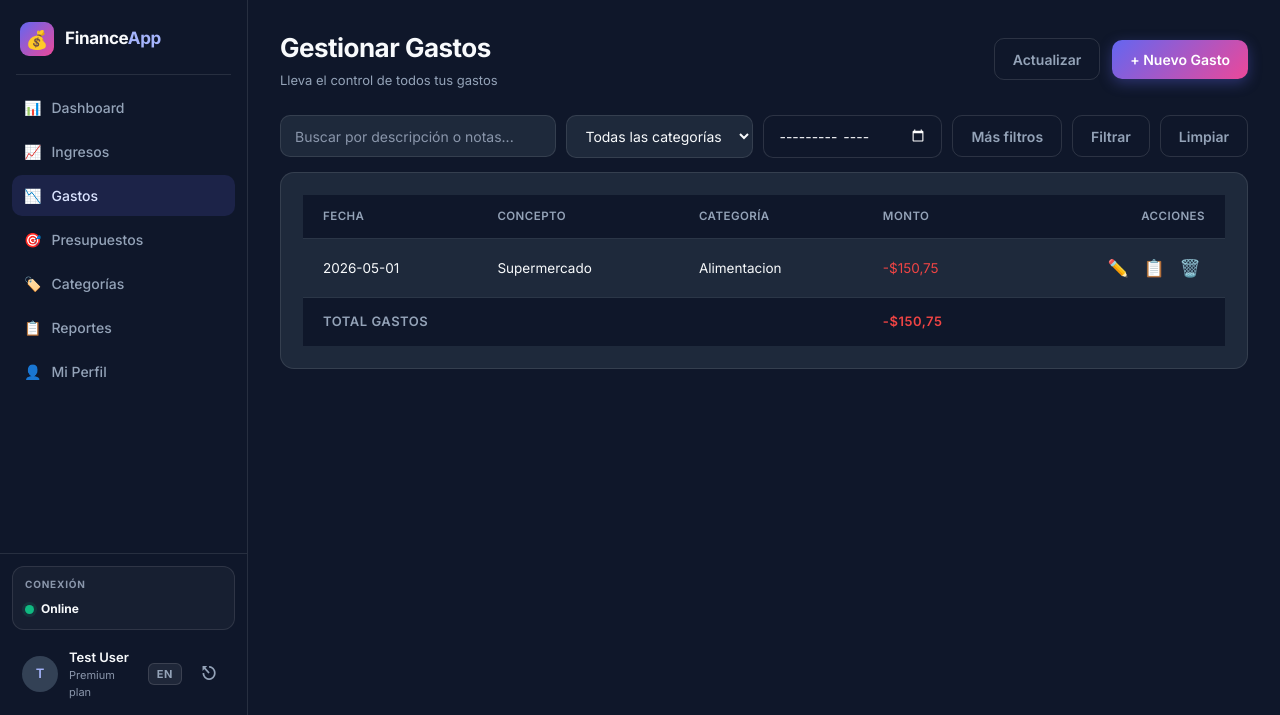
CRUD de Gastos (E2E) › Debe validar que el concepto sea obligatorio
The width and height of the screenshot is (1280, 715).
Click the button with test id "new-expense-button" at (1180, 60), box [1112,40,1248,79]
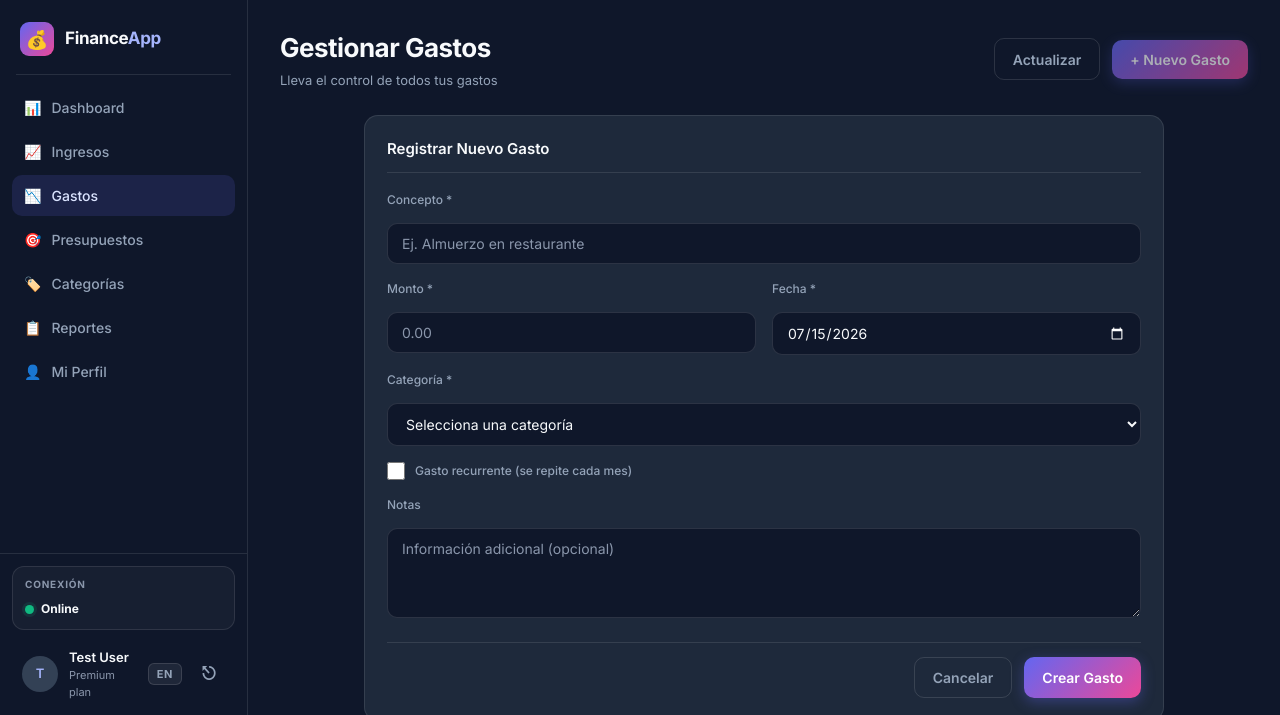
Type "100" into the field with test id "expense-amount" at (572, 333), box [387,312,756,353]
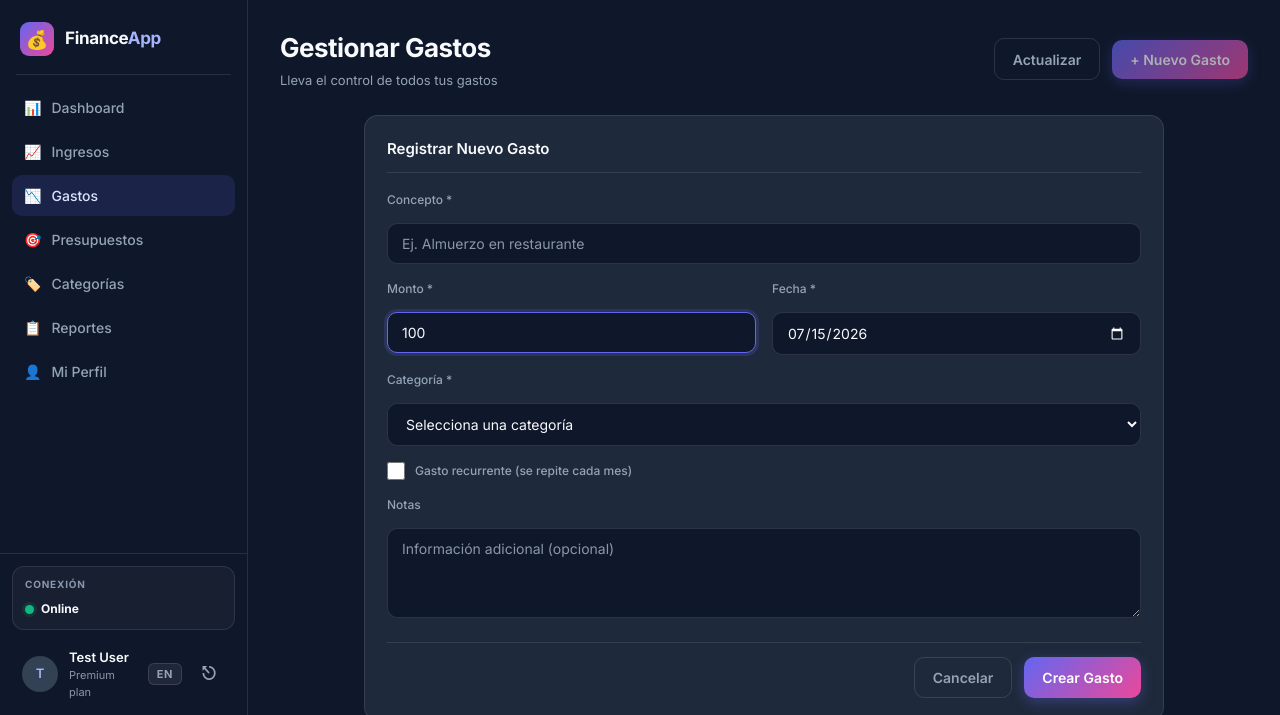
Type "2026-05-15" into the date field with test id "expense-date" at (957, 334), box [772,312,1141,355]
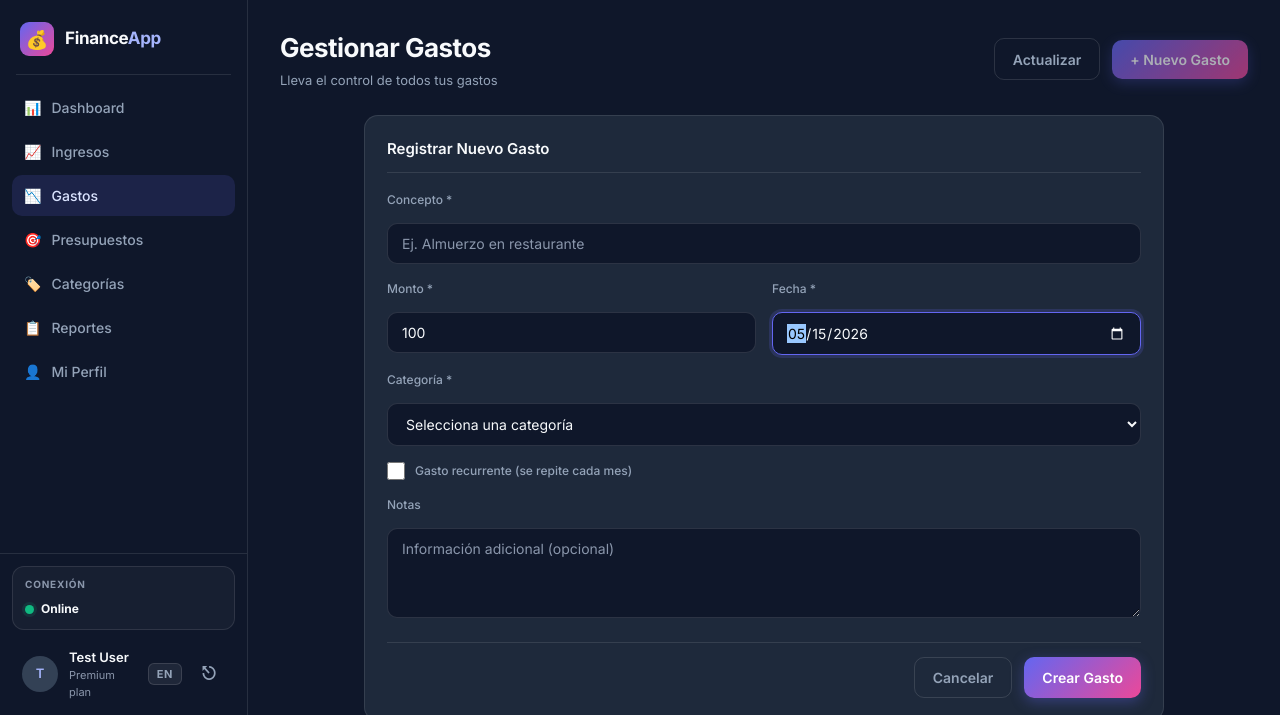
Click the button with test id "expense-submit" at (1083, 678), box [1024,657,1141,698]
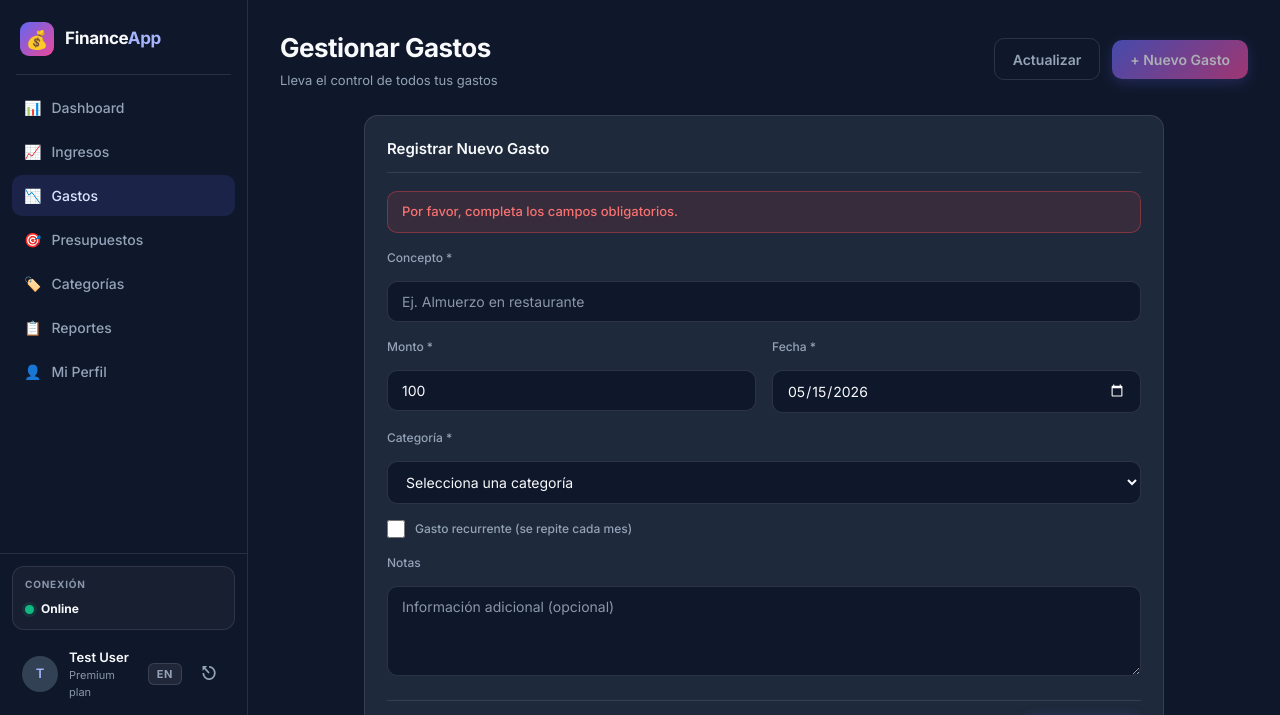
Check: the message "Por favor, completa los campos obligatorios." is shown, box [387,191,1141,232]
